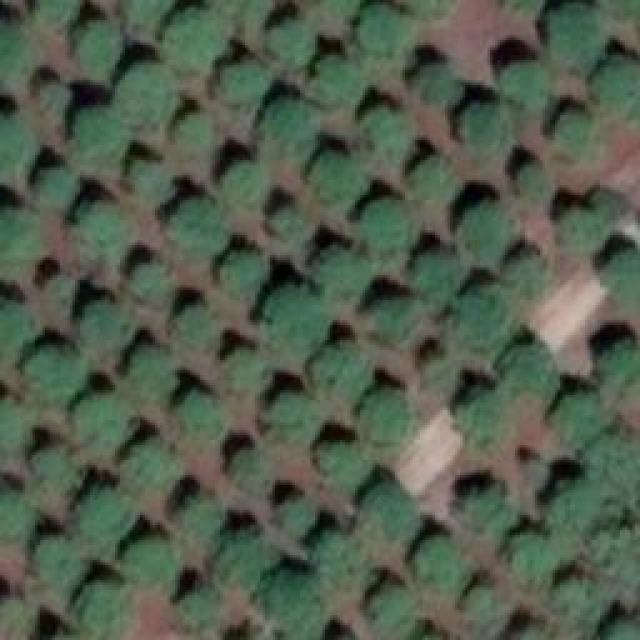Tree: (260, 283, 333, 348), (450, 283, 513, 353), (265, 568, 328, 638), (360, 480, 423, 543), (550, 0, 608, 68), (75, 478, 138, 538), (313, 338, 373, 401), (117, 70, 175, 133), (77, 577, 134, 640), (498, 340, 558, 398), (78, 195, 133, 258), (25, 345, 88, 400), (70, 390, 138, 440), (80, 295, 138, 353), (168, 193, 231, 246), (263, 398, 323, 453), (163, 15, 218, 73), (175, 390, 233, 445), (260, 102, 315, 160), (458, 202, 513, 260), (218, 527, 273, 585), (73, 17, 126, 75), (70, 117, 123, 175), (35, 535, 90, 590), (450, 485, 510, 535), (130, 435, 185, 488), (555, 388, 608, 443), (553, 483, 606, 538), (590, 57, 640, 115), (460, 390, 510, 448), (128, 345, 181, 398), (362, 5, 410, 63), (370, 582, 418, 640), (215, 58, 270, 108), (313, 53, 363, 108), (560, 200, 615, 250), (125, 0, 185, 45), (320, 243, 373, 293), (355, 390, 408, 440), (555, 575, 605, 628), (502, 53, 550, 108), (313, 437, 368, 485), (262, 18, 320, 63), (218, 245, 271, 293), (365, 297, 418, 345), (420, 538, 468, 591), (30, 450, 90, 490), (457, 100, 505, 150), (592, 440, 640, 490), (223, 343, 268, 396), (408, 58, 461, 103), (597, 245, 640, 300), (0, 207, 40, 265), (125, 162, 173, 210), (365, 105, 413, 153), (412, 252, 460, 300), (510, 532, 558, 580), (368, 198, 411, 251), (180, 493, 223, 546), (597, 522, 640, 575), (0, 15, 35, 80), (33, 168, 78, 218), (0, 298, 40, 353), (600, 343, 640, 398), (178, 112, 223, 160), (407, 155, 455, 200), (225, 160, 268, 210), (310, 148, 353, 198), (230, 448, 273, 498), (128, 530, 171, 580), (555, 105, 595, 158), (0, 488, 38, 543), (422, 355, 470, 398), (130, 253, 175, 296), (272, 495, 320, 535), (463, 583, 506, 626), (175, 582, 213, 630), (173, 300, 213, 345), (0, 400, 38, 445), (510, 253, 548, 298), (0, 112, 32, 162), (32, 78, 70, 118), (268, 200, 308, 238), (318, 533, 351, 576), (518, 163, 553, 203), (207, 0, 270, 22), (0, 593, 30, 636), (37, 0, 85, 25), (498, 620, 558, 640), (410, 0, 460, 22), (48, 273, 71, 296)
